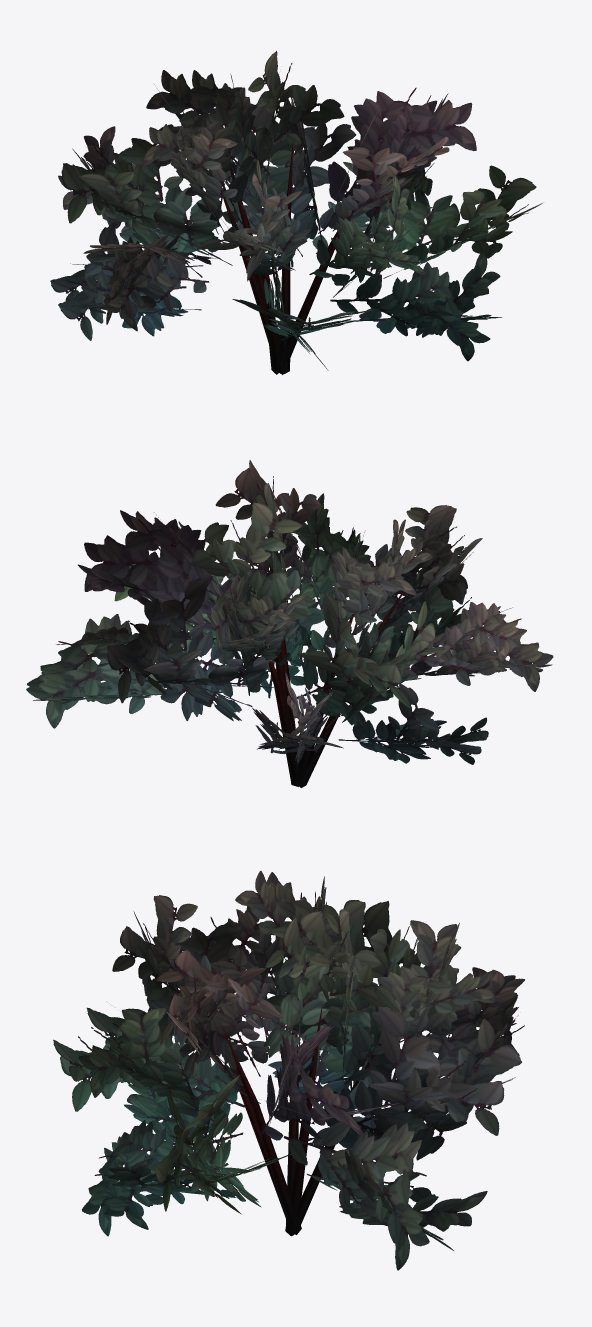
The model's file is bush.glb.
3 views of the same model, one above another, from view 1: azimuth 30°, elevation 25°; view 2: azimuth 150°, elevation 25°; view 3: azimuth 270°, elevation 25° (orthographic). The views are drawn at different scales.
Visible parts, largest first — view 1: bush; view 2: bush; view 3: bush.
Part boxes in pixels (bbox=[...]): bush: bbox=[50, 50, 543, 374]; bush: bbox=[26, 460, 553, 787]; bush: bbox=[53, 871, 524, 1270].
Size of the model in its own units: 2.17 by 1.37 by 1.95.
1 material, 1 textured.
